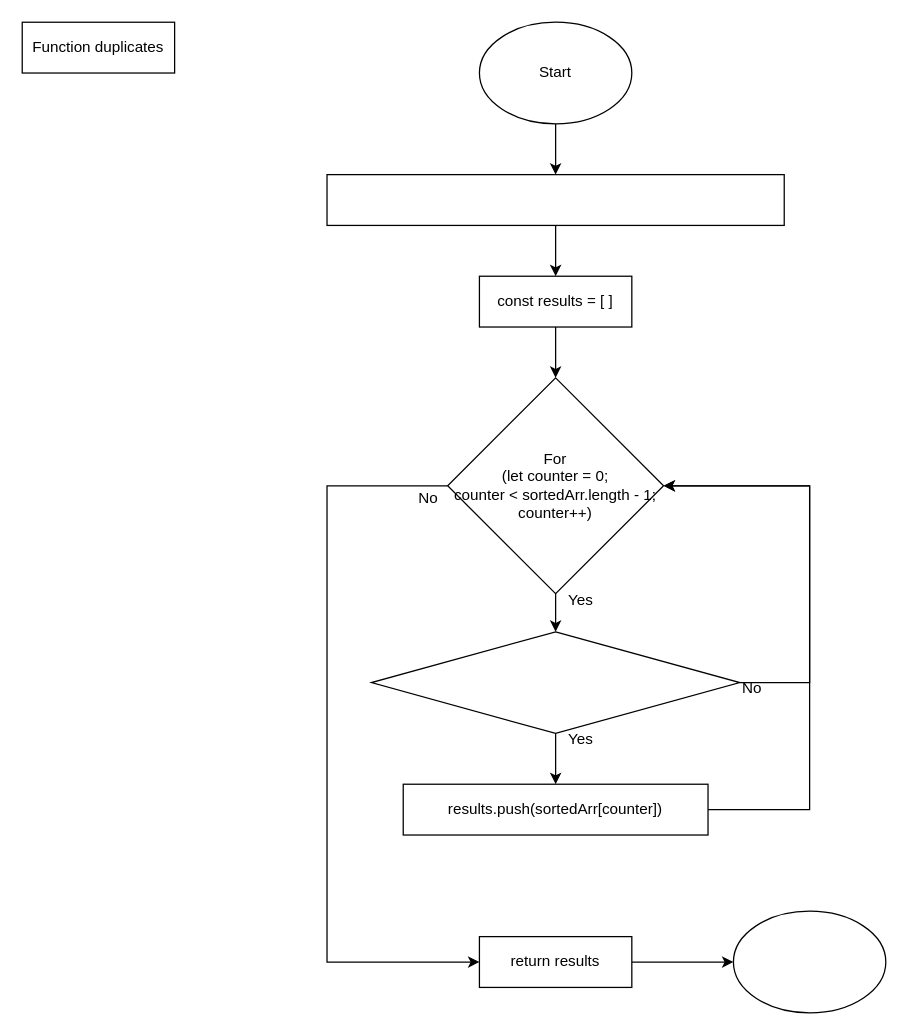
Some shapes in this 908 by 1035 pixel diagram are drawn without their labels. Each missing label, with the centre of its shape:
const sortedArr = arr.slice().sort(function (a, b) { return a - b }): the point at 555,199
If (sortedArr[counter + 1] === sortedArr[counter]): the point at 555,682
Stop: the point at 809,961
